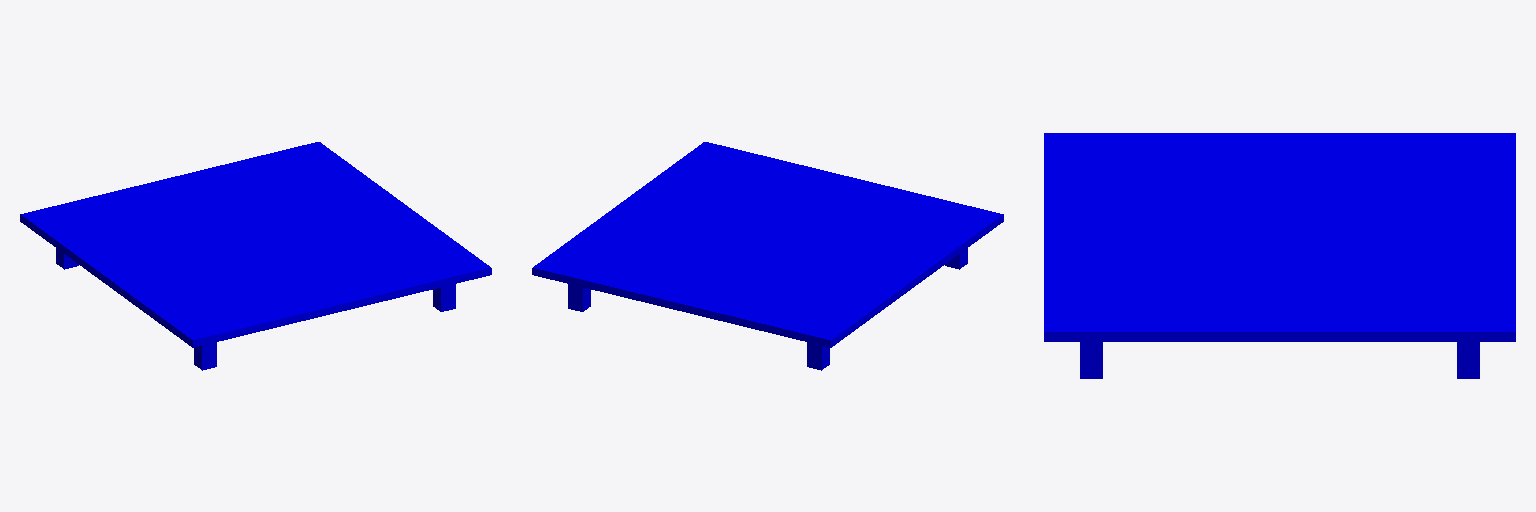
URDF robot description (table):
<?xml version="1.0" encoding="utf-8"?>
<!-- This URDF was automatically created by SolidWorks to URDF Exporter! Originally created by [author] ([email redacted]) 
     Commit Version: 1.5.1-0-g916b5db  Build Version: 1.5.7152.31018
     For more information, please see http://wiki.ros.org/sw_urdf_exporter -->
<robot
  name="table">
  <link
    name="table">
    <inertial>
      <origin
        xyz="0 1.15336502034698E-16 -0.015409"
        rpy="0 0 0" />
      <mass
        value="25.15" />
      <inertia
        ixx="2.1966"
        ixy="2.8223E-17"
        ixz="1.3553E-17"
        iyy="2.1966"
        iyz="1.08936600439563E-16"
        izz="4.3762" />
    </inertial>
    <visual>
      <origin
        xyz="0 0 0"
        rpy="1.5707963267949 0 0" />
      <geometry>
        <mesh
          filename="package://table/meshes/table.STL" />
      </geometry>
      <material
        name="">
        <color
          rgba="0 0 1 1" />
        <texture
          filename="package://table/textures/" />
      </material>
    </visual>
    <collision>
      <origin
        xyz="0 0 0"
        rpy="1.5707963267949 0 0" />
      <geometry>
        <mesh
          filename="package://table/meshes/table.STL" />
      </geometry>
    </collision>
  </link>
</robot>

--- What the picture shows (computed from the rendered views, not written in the file) ---
Views: 3 orthographic renders of the robot side by side, from view 1: azimuth 30°, elevation 25°; view 2: azimuth 150°, elevation 25°; view 3: azimuth 270°, elevation 25°.
Model table with 1 links and 0 joints (none), rooted at table, posed every joint at zero.
Visible links, largest first — view 1: table; view 2: table; view 3: table.
Link boxes in pixels (x1=…): table: x1=20, y1=142, x2=491, y2=370; table: x1=532, y1=142, x2=1003, y2=370; table: x1=1044, y1=133, x2=1515, y2=378.
Size in the robot's own frame: 1 by 1 by 0.144 metres.
1 mesh visuals loaded from 1 distinct referenced files (1 binary STL).